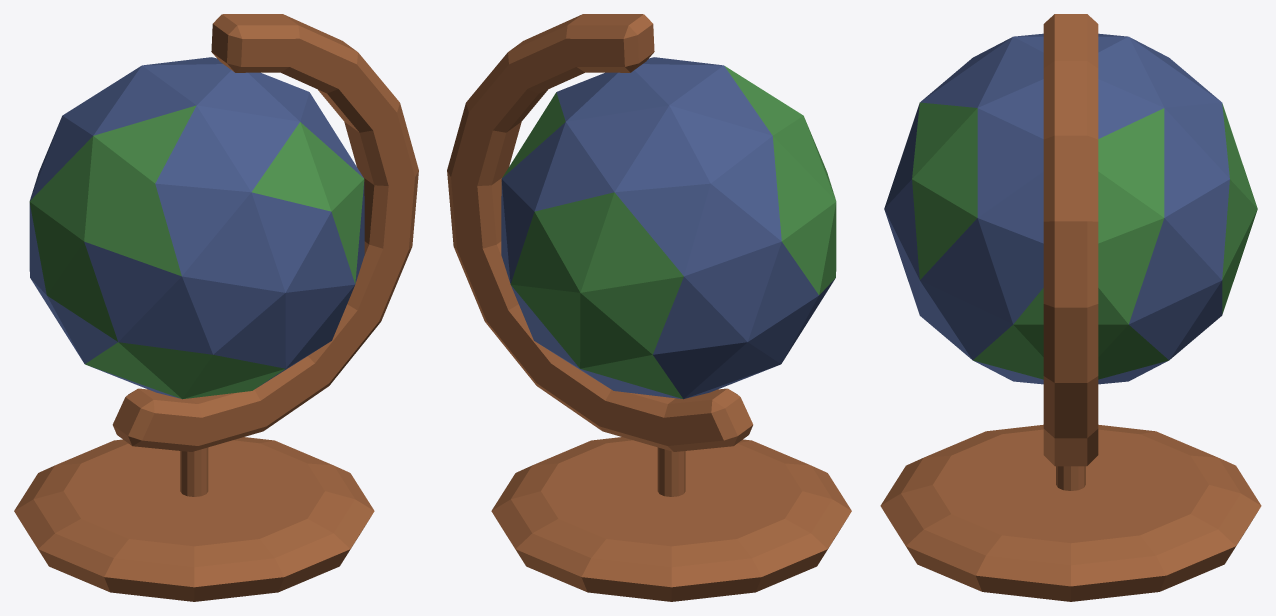
Rendered from earth_cube.gltf.
The picture shows the model from 3 angles, left to right: view 1: azimuth 30°, elevation 25°; view 2: azimuth 150°, elevation 25°; view 3: azimuth 270°, elevation 25°; orthographic projection. The views are drawn at different scales.
Parts seen in each view (by area): view 1: Globe; view 2: Globe; view 3: Globe.
Part boxes in pixels (x1=…): Globe: x1=14, y1=14, x2=418, y2=601; Globe: x1=447, y1=14, x2=851, y2=601; Globe: x1=880, y1=14, x2=1261, y2=601.
Size of the model in its own units: 1.66 by 2.13 by 1.39.
